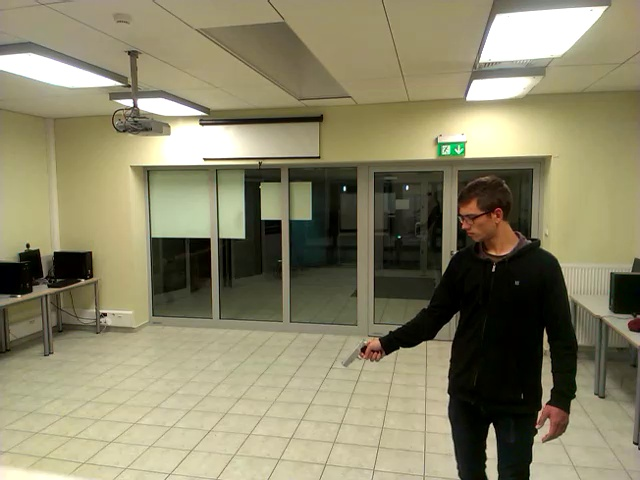gun: (339, 333, 387, 376)
